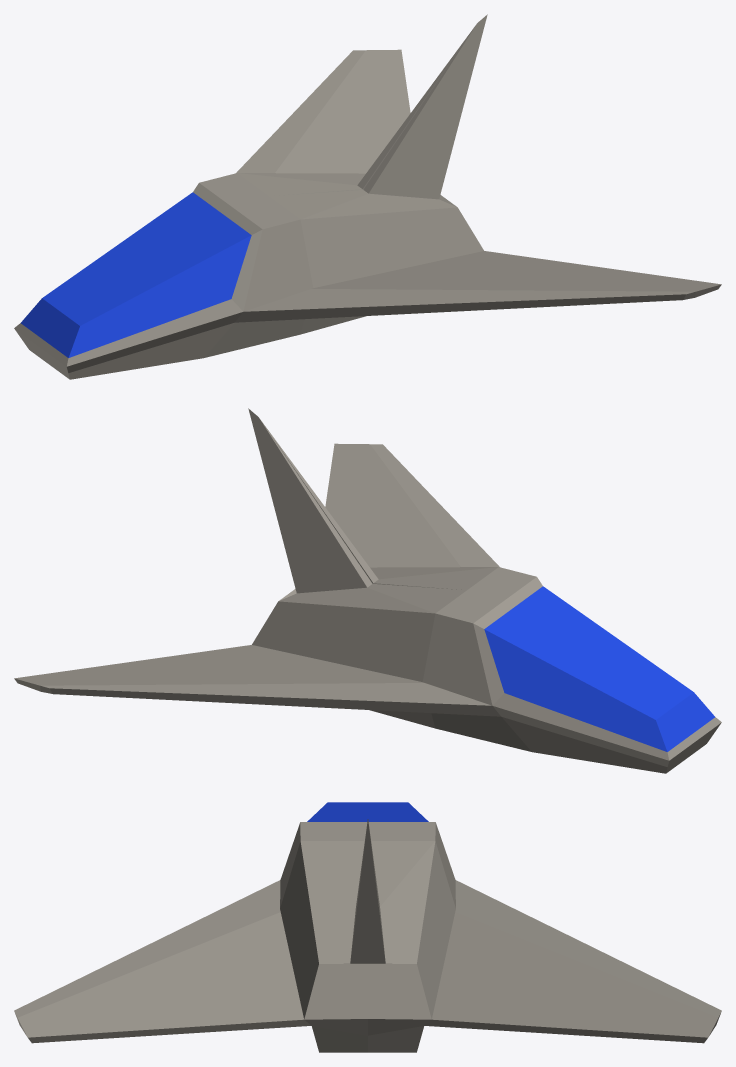
File: sheeptst1.fbx
The picture shows the model from 3 angles, top to bottom: view 1: azimuth 30°, elevation 25°; view 2: azimuth 150°, elevation 25°; view 3: azimuth 270°, elevation 25°; orthographic projection. The views are drawn at different scales.
Visible parts, largest first — view 1: Cube; view 2: Cube; view 3: Cube.
Boxes of the visible parts, box(x1,y1,x2,y2) form: Cube: box(14, 14, 721, 379); Cube: box(14, 408, 721, 773); Cube: box(14, 802, 721, 1052).
Bounding box in the file's own units: 948 × 429 × 1050.
